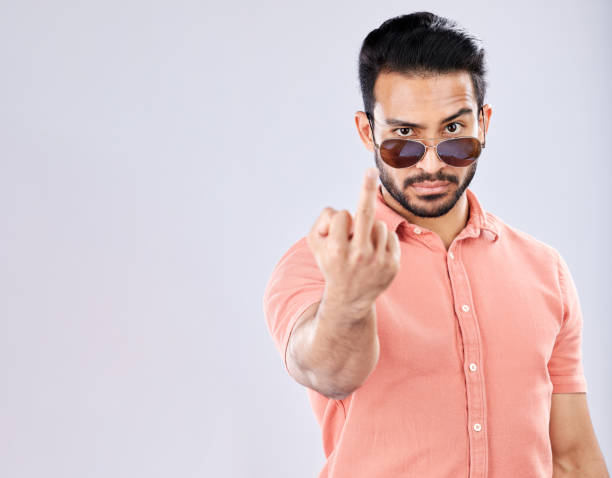insulting_gesture: (309, 164, 401, 310)
